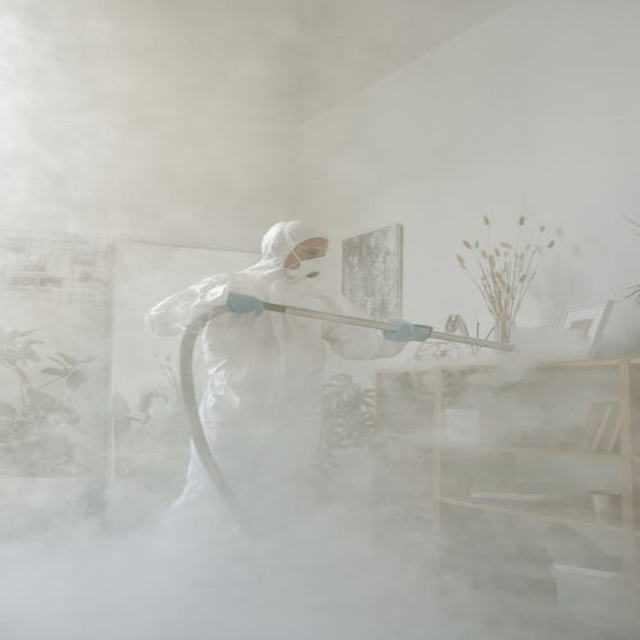Gafas: (292, 239, 327, 262)
Guantes: (384, 320, 431, 343), (226, 291, 265, 316)
Mascara: (282, 261, 321, 285)
